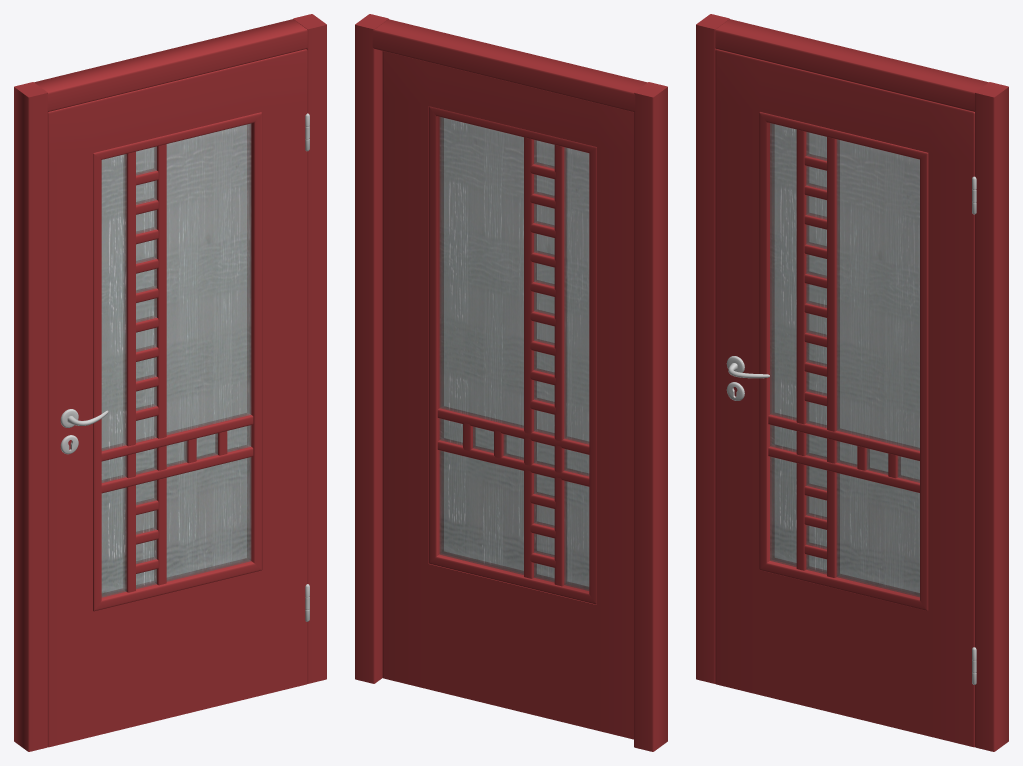
3 renders of one model, left to right at view 1: azimuth 30°, elevation 25°; view 2: azimuth 150°, elevation 25°; view 3: azimuth 330°, elevation 25°, orthographic.
Visible parts, largest first — view 1: Box07, Box03, Box01, Box11, Box02, Box05, Box17, Box18, Box16, Box15; view 2: Box07, Box03, Box01, Box02, Box11, Box05, Box17, Box18, Box16, Box15; view 3: Box07, Box03, Box02, Box11, Box01, Box05, Box18, Box17, Box16, Box15.
Part boxes in pixels (<box>): Box07: <box>48,49,307,747</box>; Box03: <box>101,123,251,597</box>; Box01: <box>14,82,47,751</box>; Box11: <box>93,112,262,611</box>; Box02: <box>293,14,326,683</box>; Box05: <box>34,19,307,111</box>; Box17: <box>124,151,135,592</box>; Box18: <box>154,144,166,585</box>; Box16: <box>101,413,253,461</box>; Box15: <box>101,445,253,493</box>; Box07: <box>382,51,633,739</box>; Box03: <box>439,117,589,590</box>; Box01: <box>634,82,667,751</box>; Box02: <box>355,14,388,683</box>; Box11: <box>429,106,596,604</box>; Box05: <box>372,19,647,112</box>; Box17: <box>554,145,566,586</box>; Box18: <box>524,137,536,578</box>; Box16: <box>437,406,589,454</box>; Box15: <box>437,438,589,486</box>; Box07: <box>715,49,974,747</box>; Box03: <box>770,123,919,597</box>; Box02: <box>975,82,1008,751</box>; Box11: <box>759,112,928,610</box>; Box01: <box>696,14,729,683</box>; Box05: <box>715,19,988,111</box>; Box18: <box>827,137,839,577</box>; Box17: <box>796,129,808,570</box>; Box16: <box>768,413,919,460</box>; Box15: <box>768,445,919,492</box>.
Bounding box in the file's own units: 945 × 1980 × 139.
